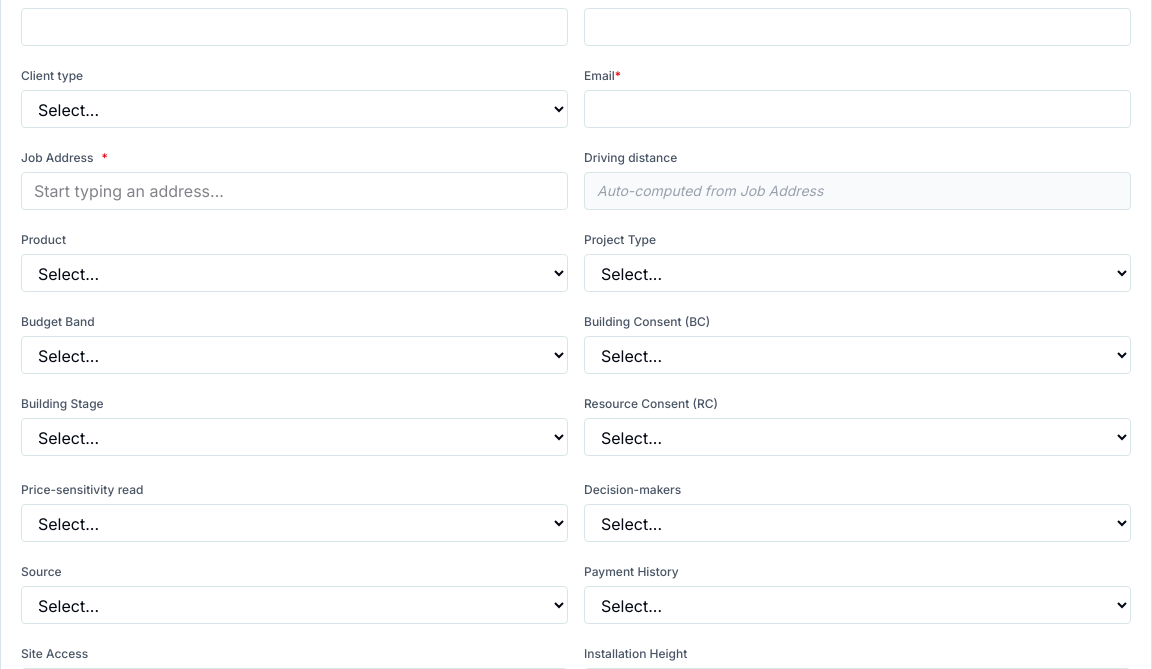
Test: LeadIntakeForm › shows the selected option Team Note on focus and updates when the selection changes
This screenshot has width=1152, height=669.
(page scrolled)
Select "$20k-50k" in the dropdown labelled "Budget Band". click: (294, 355)
box: [21,336,568,374]
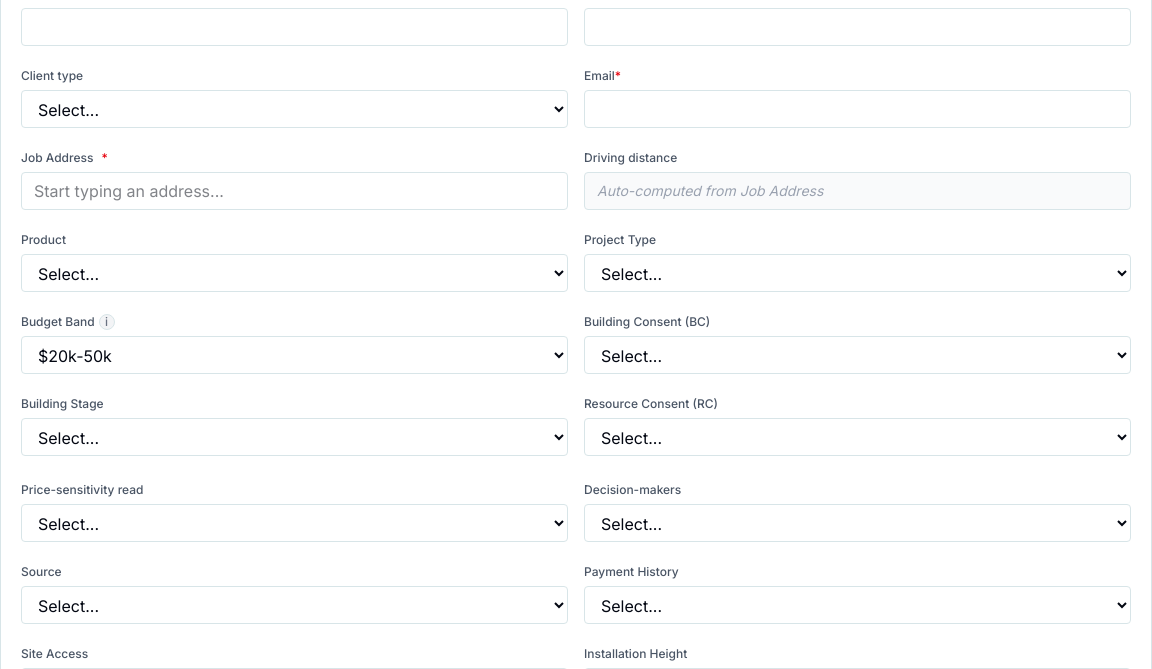
Focus the button named "Budget Band Team Note". click: (107, 322)
box: [99,314,115,330]
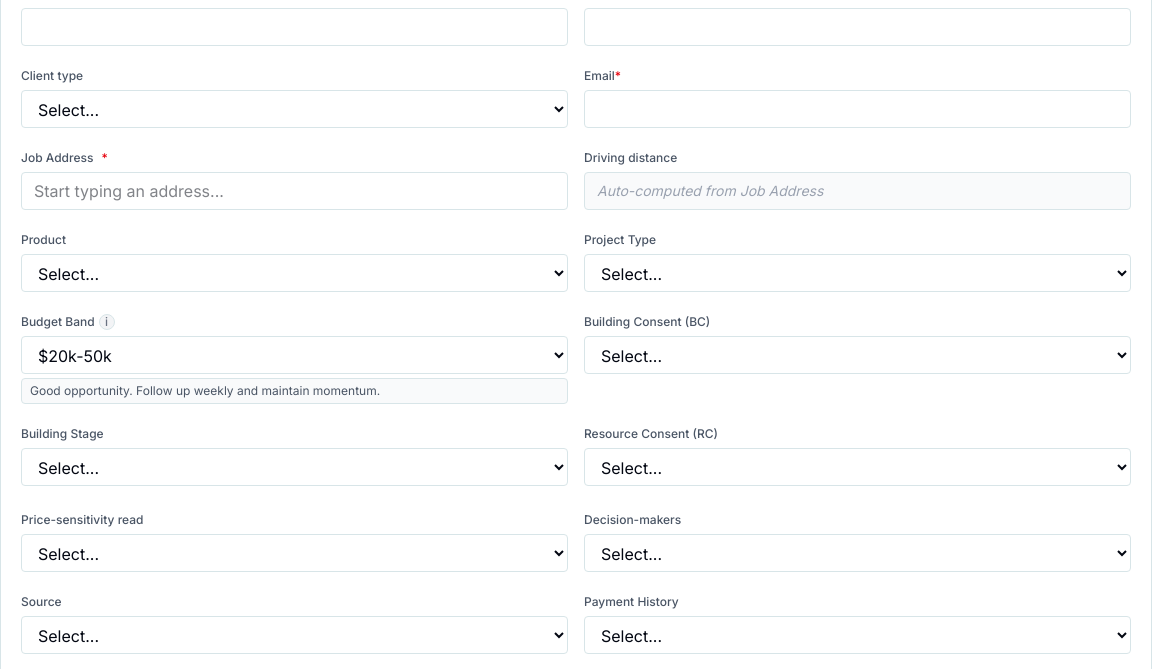
Expected: the tooltip reads "Good opportunity. Follow up weekly and maintain momentum.", [30,383,380,398]
Select "$50k+" in the dropdown named "Budget Band". click: (294, 355)
box: [21,336,568,374]
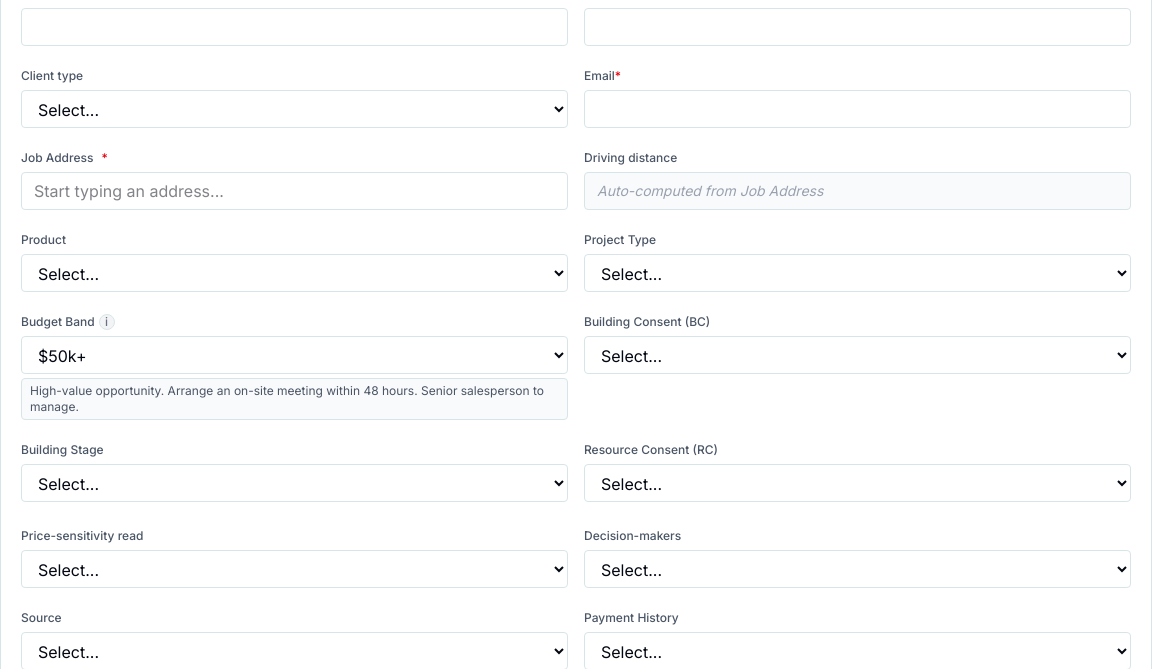
Expected: the tooltip shows "High-value opportunity. Arrange an on-site meeting within 48 hours. Senior salesperson to manage.", [30,383,544,414]
